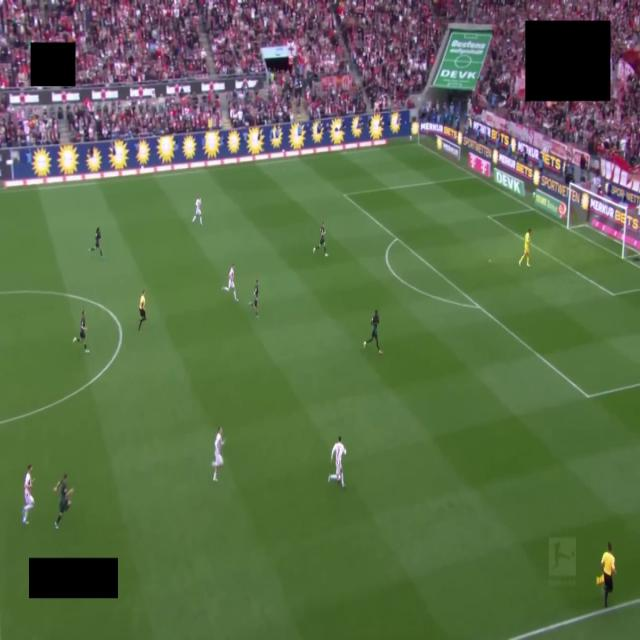player: (54, 474, 73, 528), (329, 437, 346, 488), (364, 310, 382, 354), (73, 311, 89, 353), (22, 464, 33, 524), (212, 428, 224, 481), (222, 264, 238, 302), (313, 222, 327, 256), (519, 229, 530, 266), (90, 227, 103, 257), (192, 198, 202, 224), (253, 280, 258, 318)
referee: (139, 290, 146, 330)
